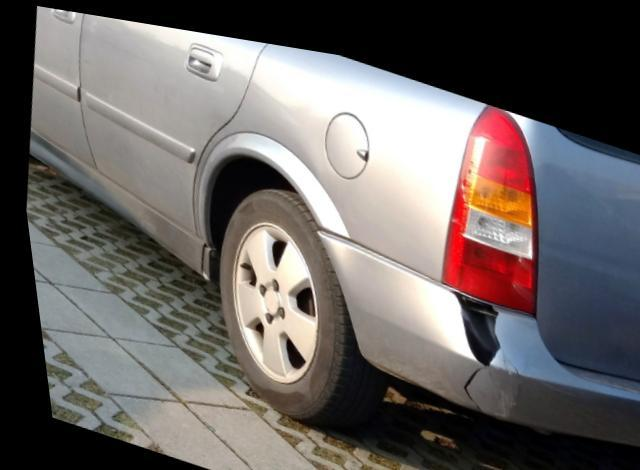crack: (443, 276, 512, 397)
